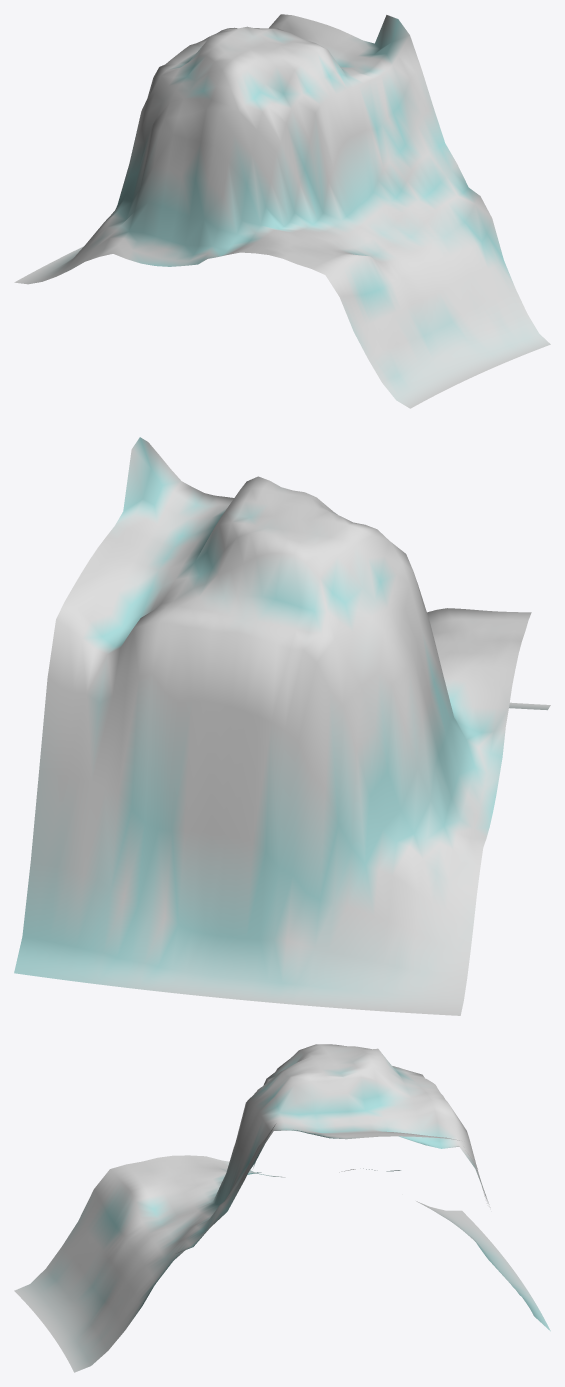
The model's file is middle_8.glb.
3 renders of one model, top to bottom at view 1: azimuth 30°, elevation 25°; view 2: azimuth 150°, elevation 25°; view 3: azimuth 270°, elevation 25°, orthographic. The views are drawn at different scales.
Visible parts, largest first — view 1: Mountain; view 2: Mountain; view 3: Mountain.
Part boxes in pixels (x1,y1,x2,y2): Mountain: [14, 14, 550, 408]; Mountain: [14, 437, 550, 1015]; Mountain: [14, 1044, 550, 1372].
Bounding box in the file's own units: 474 × 337 × 662.
